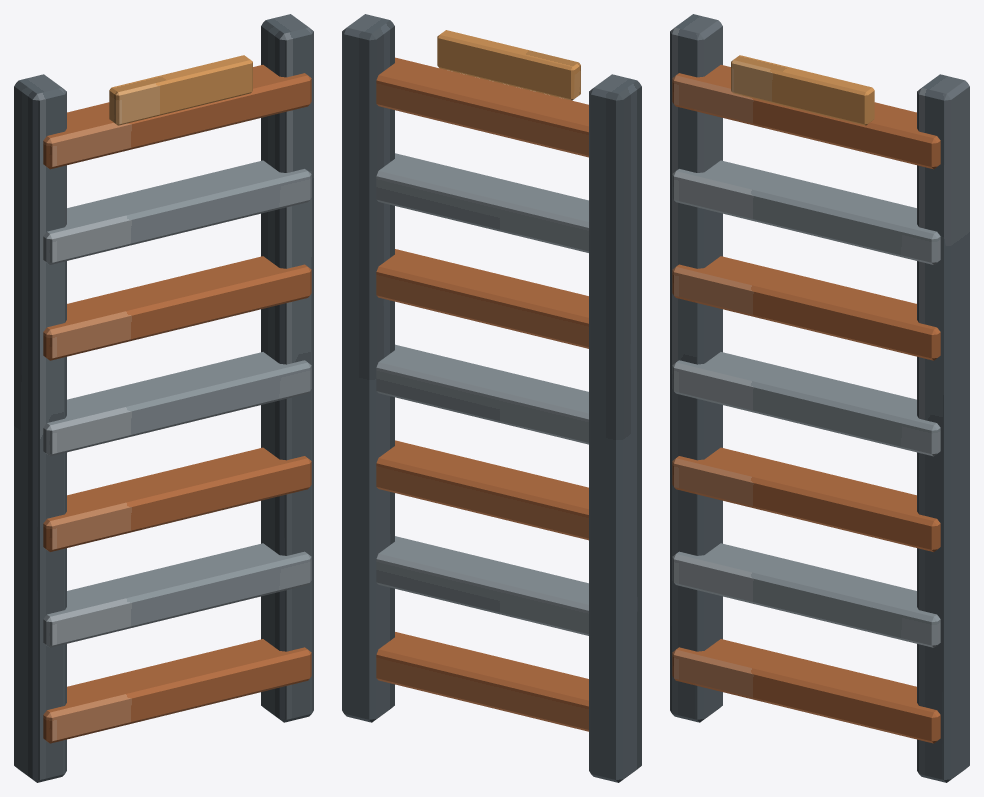
The model's file is service_ladder.glb.
3 views of the same model, side by side, from view 1: azimuth 30°, elevation 25°; view 2: azimuth 150°, elevation 25°; view 3: azimuth 330°, elevation 25° (orthographic).
Parts seen in each view (by area): view 1: LadderRail_-0.27, LadderRail_0.27, LadderRung_04, LadderRung_00, LadderRung_05, LadderRung_03, LadderRung_01, LadderRung_02, LadderRung_06, LadderTopMark; view 2: LadderRail_-0.27, LadderRail_0.27, LadderRung_00, LadderRung_01, LadderRung_06, LadderRung_03, LadderRung_02, LadderRung_04, LadderRung_05, LadderTopMark; view 3: LadderRail_0.27, LadderRail_-0.27, LadderRung_04, LadderRung_00, LadderRung_05, LadderRung_03, LadderRung_01, LadderRung_02, LadderRung_06, LadderTopMark.
Boxes of the visible parts, box(x1,y1,x2,y2) form: LadderRail_-0.27: box(14, 74, 66, 782); LadderRail_0.27: box(261, 14, 313, 722); LadderRung_04: box(43, 256, 311, 360); LadderRung_00: box(43, 639, 311, 743); LadderRung_05: box(43, 160, 311, 264); LadderRung_03: box(43, 352, 311, 456); LadderRung_01: box(43, 543, 311, 647); LadderRung_02: box(43, 447, 311, 551); LadderRung_06: box(43, 65, 311, 169); LadderTopMark: box(109, 55, 252, 125); LadderRail_-0.27: box(589, 74, 641, 782); LadderRail_0.27: box(342, 14, 394, 722); LadderRung_00: box(376, 632, 588, 731); LadderRung_01: box(376, 536, 588, 635); LadderRung_06: box(376, 57, 588, 157); LadderRung_03: box(376, 344, 588, 444); LadderRung_02: box(376, 440, 588, 540); LadderRung_04: box(376, 249, 588, 348); LadderRung_05: box(376, 153, 588, 252); LadderTopMark: box(437, 30, 580, 100); LadderRail_0.27: box(917, 74, 969, 782); LadderRail_-0.27: box(670, 14, 722, 722); LadderRung_04: box(672, 256, 940, 360); LadderRung_00: box(672, 639, 940, 743); LadderRung_05: box(672, 160, 940, 264); LadderRung_03: box(672, 352, 940, 456); LadderRung_01: box(672, 543, 940, 647); LadderRung_02: box(672, 447, 940, 551); LadderRung_06: box(672, 65, 940, 169); LadderTopMark: box(731, 55, 874, 125).
Bounding box in the file's own units: 0.615 × 1.44 × 0.1275.
Materials: 1 (1 with a texture image).
